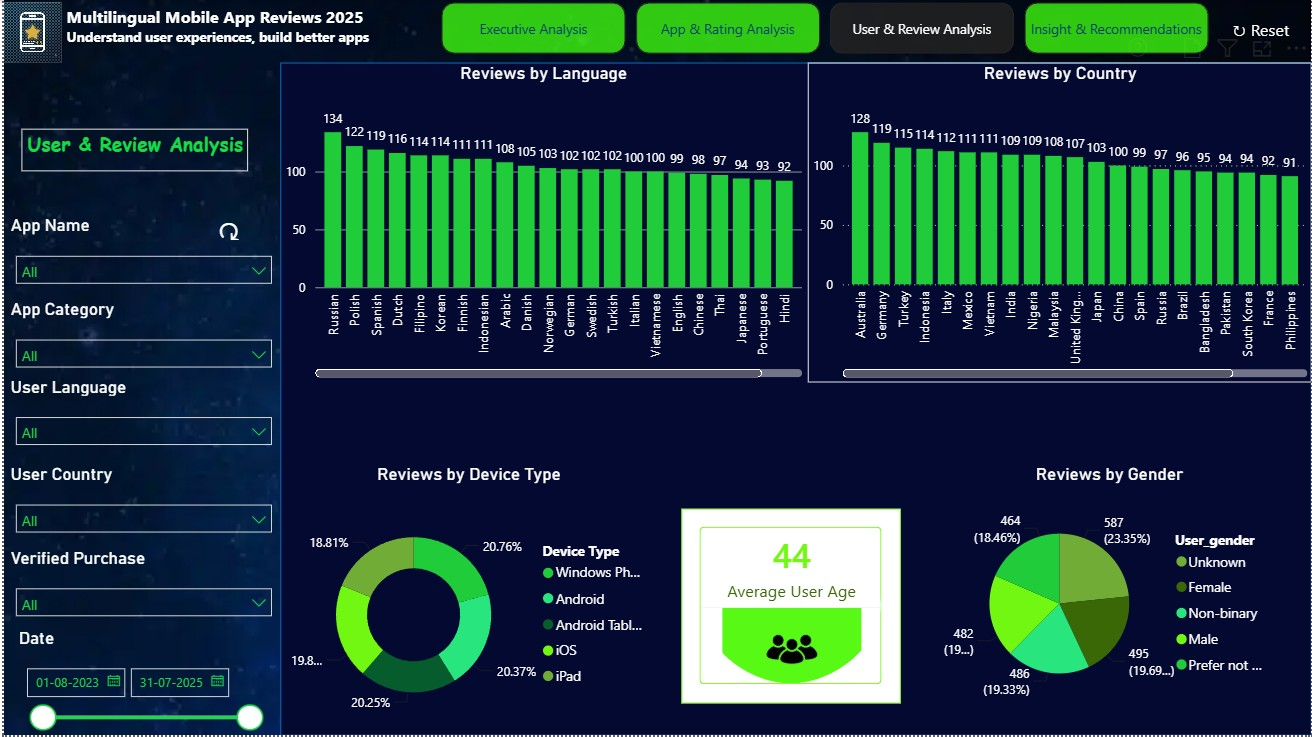

What the dashboard file says about the page in this screenshot:
{"tool":"powerbi","page":{"name":"User & Review Analysis","canvas":[1280,720],"ordinal":2},"visuals":[{"type":"image","box":[0,0,1280,720],"z":0},{"type":"image","box":[0,2.4,56.3,58.7],"z":1000},{"type":"textbox","box":[55.8,0,315.1,61.6],"z":2000},{"type":"shape","box":[270,61.4,1010,658.6],"z":3000},{"type":"clusteredColumnChart","title":" Reviews by Language","fields":{"Category":["multilingual_mobile_app_reviews_2025.Review_language"],"Y":["Measure_Table.Total Reviews"]},"box":[270,61.4,515.7,312.9],"z":4000},{"type":"clusteredColumnChart","title":"Reviews by Country","fields":{"Category":["multilingual_mobile_app_reviews_2025.User_country"],"Y":["Measure_Table.Total Reviews"]},"box":[786.3,61.1,494,313],"z":5000},{"type":"donutChart","title":"Reviews by Device Type","fields":{"Category":["multilingual_mobile_app_reviews_2025.Device_type"],"Y":["Measure_Table.Total Reviews"]},"box":[270.2,453.7,369.3,265.4],"z":6000},{"type":"cardVisual","fields":{"Data":["Measure_Table.Average User Age"]},"box":[662.9,497.1,214.3,190],"z":7000},{"type":"pieChart","title":"Reviews by Gender","fields":{"Y":["Measure_Table.Total Reviews"],"Category":["multilingual_mobile_app_reviews_2025.User_gender"]},"box":[914.7,453.7,333.8,243.3],"z":8000},{"type":"slicer","title":"App Name","fields":{"Values":["multilingual_mobile_app_reviews_2025.App_name"]},"box":[3.8,210.4,266.2,67],"z":9000},{"type":"slicer","title":"App Category","fields":{"Values":["multilingual_mobile_app_reviews_2025.App_category"]},"box":[3.8,292.8,266.2,67],"z":10000},{"type":"slicer","title":"User Language","fields":{"Values":["multilingual_mobile_app_reviews_2025.Review_language"]},"box":[4.1,367.8,266.2,67],"z":11000},{"type":"slicer","title":"User Country","fields":{"Values":["multilingual_mobile_app_reviews_2025.User_country"]},"box":[4.1,454.2,266.2,67],"z":12000},{"type":"slicer","title":"Verified Purchase","fields":{"Values":["multilingual_mobile_app_reviews_2025.Verified_purchase"]},"box":[4.1,535.2,266.2,67],"z":13000},{"type":"slicer","title":"Date","fields":{"Values":["multilingual_mobile_app_reviews_2025.Review_date"]},"box":[9.8,613.6,251.9,106.4],"z":14000},{"type":"pageNavigator","box":[428.5,2.8,752.7,50.1],"z":15000},{"type":"textbox","title":"User & Review Analysis","box":[17.5,126.2,221.2,41.2],"z":16000},{"type":"actionButton","title":"↻ Reset","box":[1179.8,8.3,100.2,40.3],"z":17000},{"type":"actionButton","box":[169.7,210.1,100.2,40.3],"z":18000}]}

Visuals, with their boxes in screenshot pixels (x1, y1, x2, y2), scaled from the page's 1280x720 canvas onto the 1312x737 screenshot:
image: (0,0,1311,736)
image: (0,2,58,63)
textbox: (57,0,380,63)
shape: (277,63,1311,736)
" Reviews by Language" clusteredColumnChart: (277,63,805,383)
"Reviews by Country" clusteredColumnChart: (806,63,1311,383)
"Reviews by Device Type" donutChart: (277,464,655,736)
cardVisual - Measure_Table.Average User Age: (679,509,899,703)
"Reviews by Gender" pieChart: (938,464,1280,713)
"App Name" slicer: (4,215,277,284)
"App Category" slicer: (4,300,277,368)
"User Language" slicer: (4,376,277,445)
"User Country" slicer: (4,465,277,534)
"Verified Purchase" slicer: (4,548,277,616)
"Date" slicer: (10,628,268,736)
pageNavigator: (439,3,1211,54)
"User & Review Analysis" textbox: (18,129,245,171)
"↻ Reset" actionButton: (1209,8,1311,50)
actionButton: (174,215,277,256)
